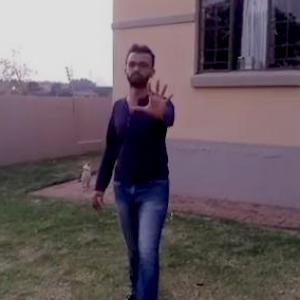follow_hand: (129, 73, 177, 123)
